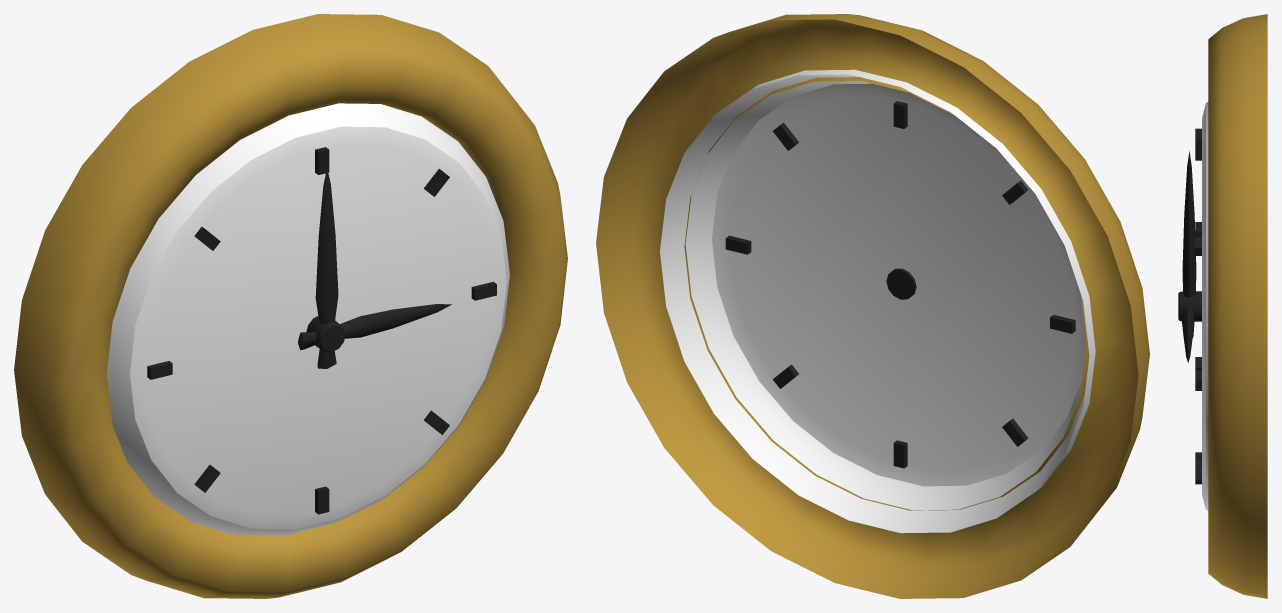
Rendered from SM_clock_large.fbx.
3 views of the same model, side by side, from view 1: azimuth 30°, elevation 25°; view 2: azimuth 150°, elevation 25°; view 3: azimuth 270°, elevation 25° (orthographic). The views are drawn at different scales.
Visible parts, largest first — view 1: Object32424; view 2: Object32424; view 3: Object32424.
Part boxes in pixels (x1,y1,x2,y2): Object32424: (14, 14, 567, 598); Object32424: (596, 14, 1149, 598); Object32424: (1178, 14, 1267, 598).
Bounding box in the file's own units: 60.34 × 59.9 × 9.2.
